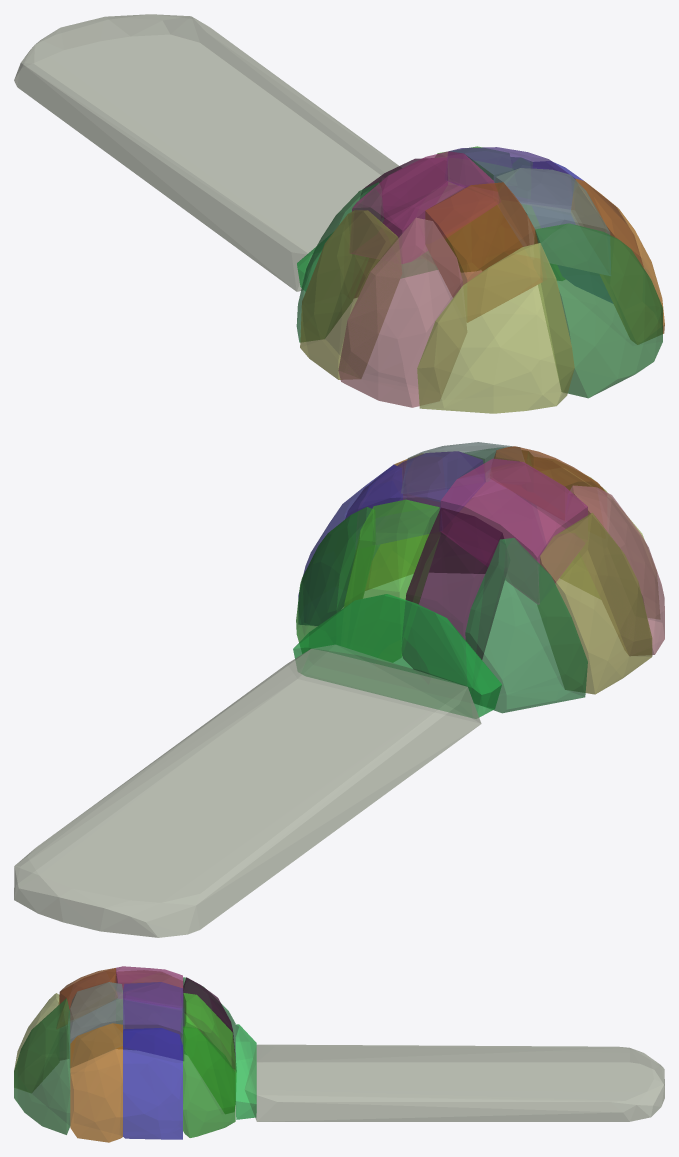
Rendered from spoon_vhacd.obj.
The picture shows the model from 3 angles, top to bottom: view 1: azimuth 30°, elevation 25°; view 2: azimuth 150°, elevation 25°; view 3: azimuth 270°, elevation 25°; orthographic projection. The views are drawn at different scales.
Visible parts, largest first — view 1: Shape_IndexedFaceSet, Shape_IndexedFaceSet.002, Shape_IndexedFaceSet.004, Shape_IndexedFaceSet.003, Shape_IndexedFaceSet.006, Shape_IndexedFaceSet.005, Shape_IndexedFaceSet.007, Shape_IndexedFaceSet.010, Shape_IndexedFaceSet.011, Shape_IndexedFaceSet.008, Shape_IndexedFaceSet.012, Shape_IndexedFaceSet.009 (+4 smaller); view 2: Shape_IndexedFaceSet, Shape_IndexedFaceSet.001, Shape_IndexedFaceSet.008, Shape_IndexedFaceSet.006, Shape_IndexedFaceSet.009, Shape_IndexedFaceSet.007, Shape_IndexedFaceSet.014, Shape_IndexedFaceSet.004, Shape_IndexedFaceSet.012, Shape_IndexedFaceSet.015, Shape_IndexedFaceSet.013, Shape_IndexedFaceSet.002 (+4 smaller); view 3: Shape_IndexedFaceSet, Shape_IndexedFaceSet.013, Shape_IndexedFaceSet.011, Shape_IndexedFaceSet.003, Shape_IndexedFaceSet.015, Shape_IndexedFaceSet.012, Shape_IndexedFaceSet.014, Shape_IndexedFaceSet.010, Shape_IndexedFaceSet.002, Shape_IndexedFaceSet.006, Shape_IndexedFaceSet.007, Shape_IndexedFaceSet.005 (+4 smaller).
Part boxes in pixels (<box>): Shape_IndexedFaceSet: <box>14,14,401,291</box>; Shape_IndexedFaceSet.002: <box>417,243,574,413</box>; Shape_IndexedFaceSet.004: <box>338,217,466,407</box>; Shape_IndexedFaceSet.003: <box>534,223,662,398</box>; Shape_IndexedFaceSet.006: <box>300,210,401,379</box>; Shape_IndexedFaceSet.005: <box>425,182,542,322</box>; Shape_IndexedFaceSet.007: <box>350,151,500,263</box>; Shape_IndexedFaceSet.010: <box>495,168,610,275</box>; Shape_IndexedFaceSet.011: <box>571,178,664,344</box>; Shape_IndexedFaceSet.008: <box>296,182,383,342</box>; Shape_IndexedFaceSet.012: <box>445,147,575,211</box>; Shape_IndexedFaceSet.009: <box>354,158,447,297</box>; Shape_IndexedFaceSet: <box>14,645,481,937</box>; Shape_IndexedFaceSet.001: <box>293,594,501,718</box>; Shape_IndexedFaceSet.008: <box>465,538,587,713</box>; Shape_IndexedFaceSet.006: <box>538,512,652,694</box>; Shape_IndexedFaceSet.009: <box>401,507,507,685</box>; Shape_IndexedFaceSet.007: <box>440,458,587,604</box>; Shape_IndexedFaceSet.014: <box>341,499,439,662</box>; Shape_IndexedFaceSet.004: <box>565,485,664,655</box>; Shape_IndexedFaceSet.012: <box>355,451,485,549</box>; Shape_IndexedFaceSet.015: <box>296,507,375,653</box>; Shape_IndexedFaceSet.013: <box>298,464,402,625</box>; Shape_IndexedFaceSet.002: <box>534,457,659,618</box>; Shape_IndexedFaceSet: <box>245,1044,664,1121</box>; Shape_IndexedFaceSet.013: <box>123,1028,182,1139</box>; Shape_IndexedFaceSet.011: <box>70,1023,122,1142</box>; Shape_IndexedFaceSet.003: <box>14,998,70,1134</box>; Shape_IndexedFaceSet.015: <box>183,1026,235,1137</box>; Shape_IndexedFaceSet.012: <box>123,982,184,1060</box>; Shape_IndexedFaceSet.014: <box>181,993,236,1113</box>; Shape_IndexedFaceSet.010: <box>68,982,124,1067</box>; Shape_IndexedFaceSet.002: <box>14,993,59,1092</box>; Shape_IndexedFaceSet.006: <box>116,970,182,1049</box>; Shape_IndexedFaceSet.007: <box>115,966,183,1008</box>; Shape_IndexedFaceSet.005: <box>56,968,117,1028</box>.
Bounding box in the file's own units: 22.5 × 11.58 × 61.2.
